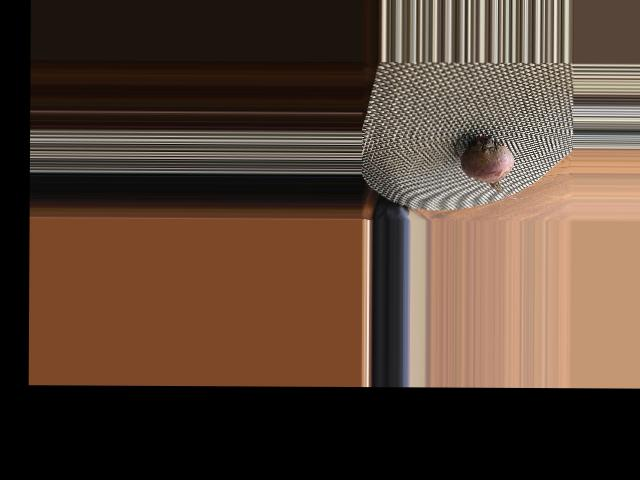beet: (453, 133, 522, 198)
